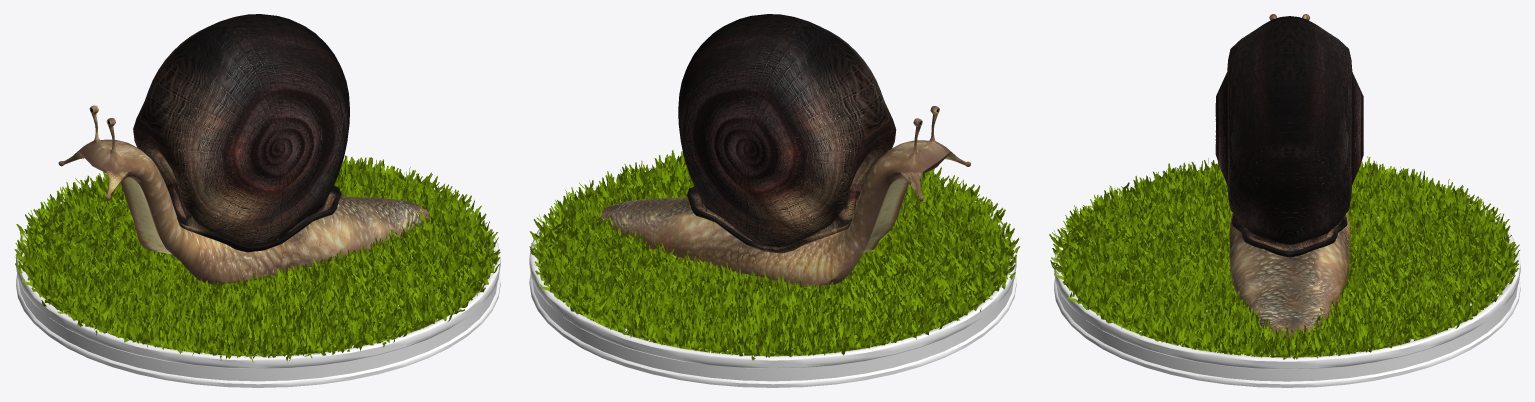
Rendered from snail.glb.
The picture shows the model from 3 angles, left to right: view 1: azimuth 30°, elevation 25°; view 2: azimuth 150°, elevation 25°; view 3: azimuth 270°, elevation 25°; orthographic projection. The views are drawn at different scales.
Visible parts, largest first — view 1: Plane_0_4, Sphere_1, Cylinder, Cube; view 2: Plane_0_4, Sphere_1, Cylinder, Cube; view 3: Plane_0_4, Sphere_1, Cylinder, Cube.
Boxes of the visible parts, <box> form: Plane_0_4: <box>14,155,500,362</box>; Sphere_1: <box>133,14,349,252</box>; Cylinder: <box>16,162,500,387</box>; Cube: <box>58,105,429,284</box>; Plane_0_4: <box>529,150,1020,360</box>; Sphere_1: <box>678,14,896,253</box>; Cylinder: <box>529,165,1016,387</box>; Cube: <box>598,106,970,287</box>; Plane_0_4: <box>1049,156,1519,359</box>; Sphere_1: <box>1215,16,1363,257</box>; Cylinder: <box>1054,170,1520,387</box>; Cube: <box>1229,14,1349,340</box>.
Size of the model in its own units: 1737 by 1048 by 1732.
6 materials, 3 textured.
